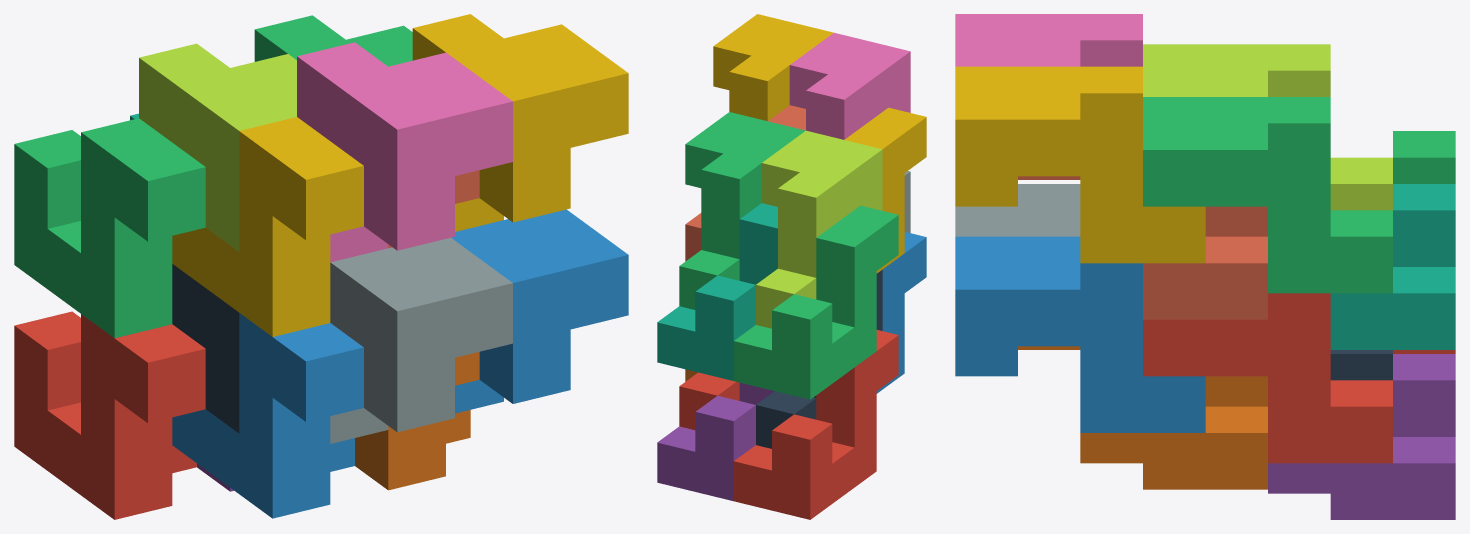
File: tiling.obj
The picture shows the model from 3 angles, left to right: view 1: azimuth 30°, elevation 25°; view 2: azimuth 150°, elevation 25°; view 3: azimuth 270°, elevation 25°; orthographic projection. The views are drawn at different scales.
Visible parts, largest first — view 1: copy_1_domain_3, copy_1_domain_1, copy_2_domain_4, copy_2_domain_2, copy_1_domain_4, copy_1_domain_2, copy_2_domain_8, copy_2_domain_6, copy_2_domain_3, copy_2_domain_1, copy_1_domain_6, copy_2_domain_7 (+1 smaller); view 2: copy_1_domain_3, copy_1_domain_1, copy_2_domain_3, copy_2_domain_7, copy_1_domain_7, copy_2_domain_4, copy_2_domain_8, copy_1_domain_5, copy_1_domain_4, copy_1_domain_2, copy_2_domain_1, copy_2_domain_5 (+2 smaller); view 3: copy_2_domain_8, copy_2_domain_7, copy_2_domain_6, copy_2_domain_5, copy_1_domain_5, copy_1_domain_7, copy_2_domain_3, copy_1_domain_6, copy_1_domain_8, copy_2_domain_4, copy_2_domain_2, copy_1_domain_3 (+1 smaller).
Part boxes in pixels (x1,y1,x2,y2): copy_1_domain_3: (14,118,205,338); copy_1_domain_1: (14,311,205,519); copy_2_domain_4: (297,42,512,262); copy_2_domain_2: (330,237,512,443); copy_1_domain_4: (172,117,363,336); copy_1_domain_2: (172,313,363,518); copy_2_domain_8: (412,14,628,231); copy_2_domain_6: (451,209,628,413); copy_2_domain_3: (139,43,296,251); copy_2_domain_1: (172,264,239,433); copy_1_domain_6: (355,352,479,490); copy_2_domain_7: (254,15,412,66); copy_1_domain_3: (733,205,898,399); copy_1_domain_1: (733,330,898,519); copy_2_domain_3: (756,130,882,328); copy_2_domain_7: (679,112,805,309); copy_1_domain_7: (657,203,777,380); copy_2_domain_4: (789,32,910,139); copy_2_domain_8: (713,14,833,121); copy_1_domain_5: (657,382,774,501); copy_1_domain_4: (844,107,926,273); copy_1_domain_2: (876,232,926,393); copy_2_domain_1: (756,269,882,448); copy_2_domain_5: (679,372,739,429); copy_2_domain_8: (955,66,1205,263); copy_2_domain_7: (1143,97,1392,293); copy_2_domain_6: (955,236,1205,432); copy_2_domain_5: (1143,293,1392,463); copy_1_domain_5: (1268,354,1455,519); copy_1_domain_7: (1330,184,1455,349); copy_2_domain_3: (1143,44,1392,210); copy_1_domain_6: (1018,346,1267,489); copy_1_domain_8: (1018,176,1267,319); copy_2_domain_4: (955,14,1142,66); copy_2_domain_2: (955,184,1080,236); copy_1_domain_3: (1393,131,1455,183).
Size of the model in its own units: 6 by 8 by 8.
